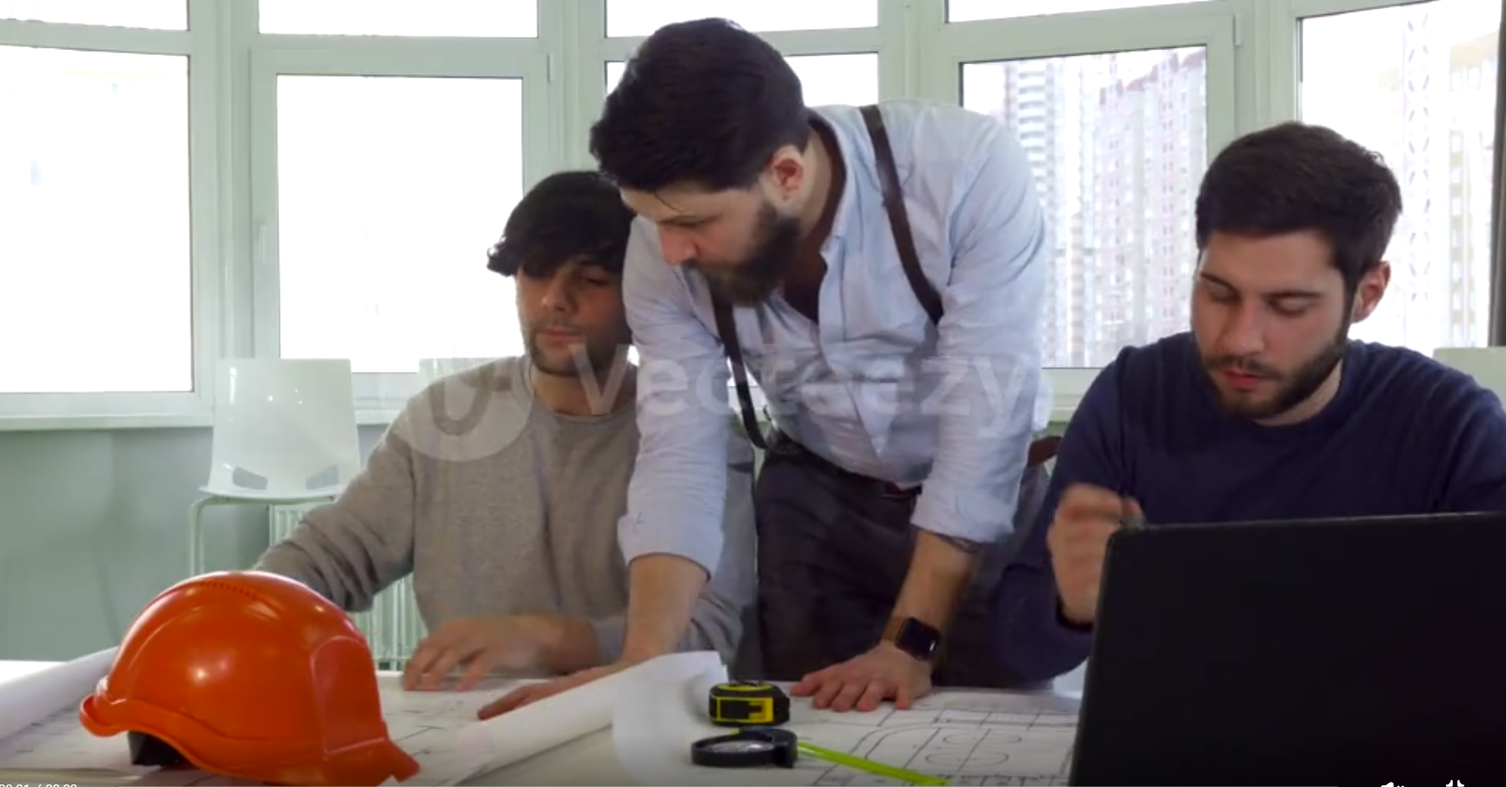safety_helmet: (78, 568, 420, 785)
